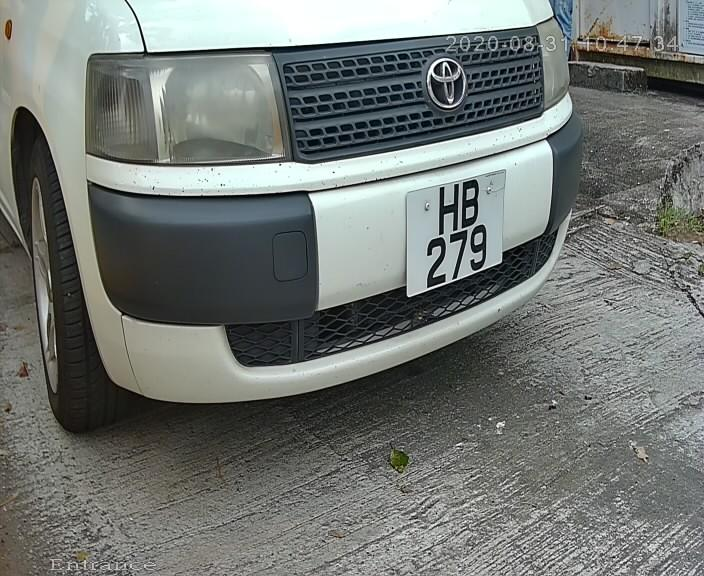License Plate: (400, 147, 513, 309)
